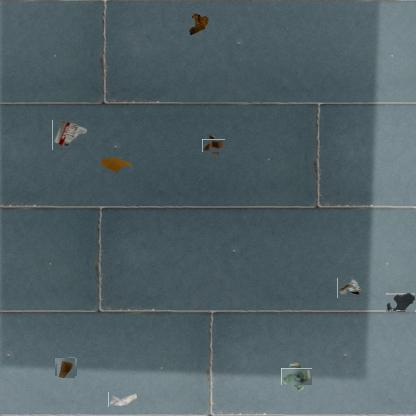dirty: (52, 120, 87, 150), (187, 11, 211, 35), (284, 365, 308, 388), (338, 277, 361, 300), (108, 391, 137, 407), (56, 357, 76, 377), (204, 136, 223, 155)
liquid: (386, 292, 416, 312), (100, 155, 132, 173)
